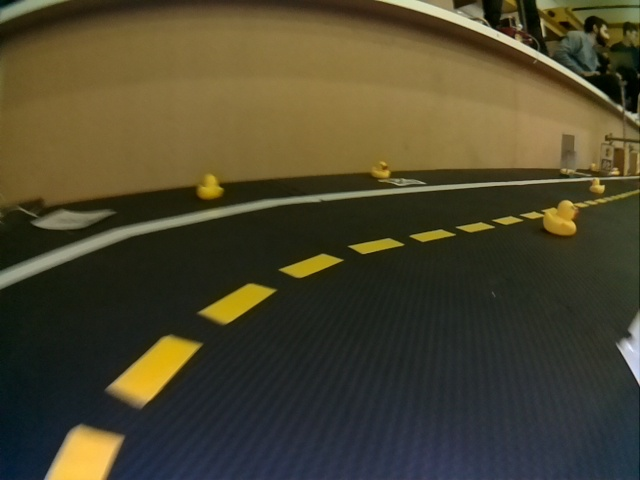Duckie: (544, 201, 579, 236), (197, 174, 223, 199), (371, 161, 391, 178), (590, 178, 605, 194)
QR code: (381, 178, 424, 186)
